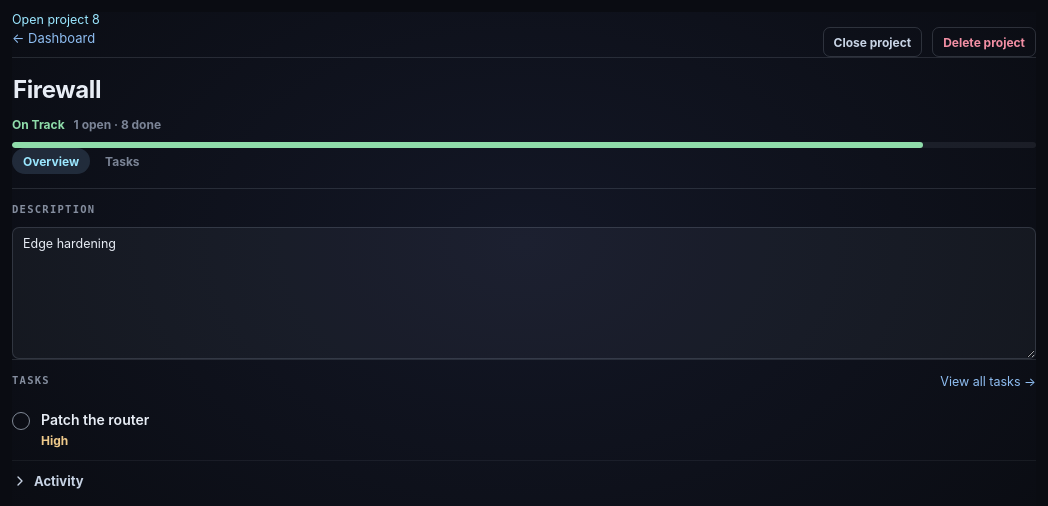
Test case: ProjectDetailPage › does not show the previous project’s done count while the new one loads
The width and height of the screenshot is (1048, 506).
Expected: the text "1 open · 8 done" is shown, x1=74 y1=118 x2=161 y2=132
Click the link "Open project 8".
click(56, 20)  # box x1=12 y1=12 x2=100 y2=27
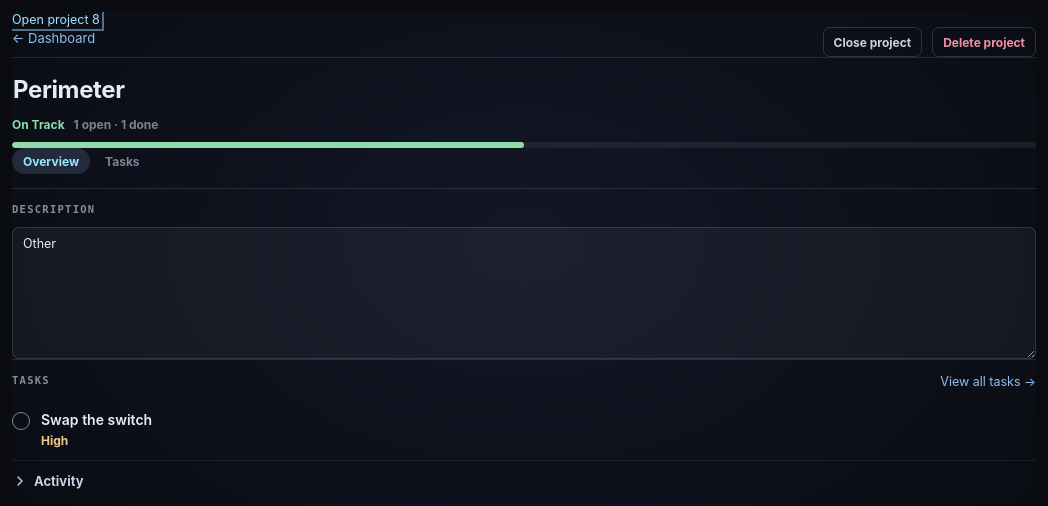
Expected: the field named "Project name" holds "Perimeter", x1=12 y1=72 x2=1036 y2=108
Expected: the text "1 open · 1 done" is shown, x1=74 y1=118 x2=158 y2=132
